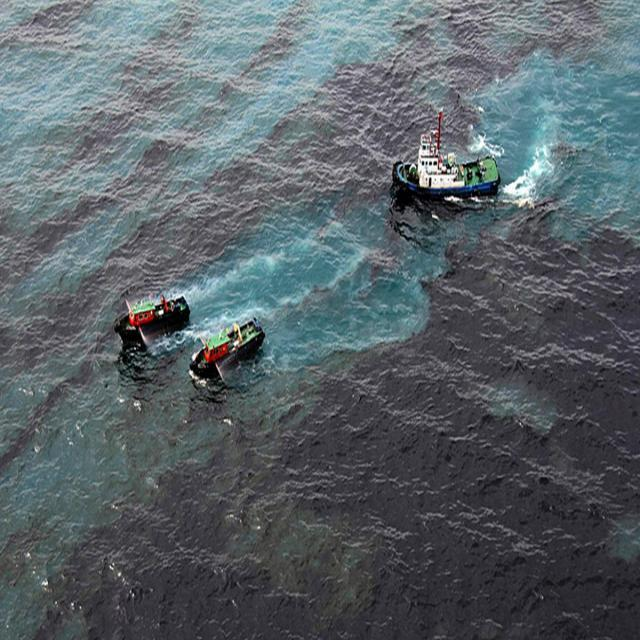truecolor: (0, 2, 612, 477), (37, 210, 640, 639)
